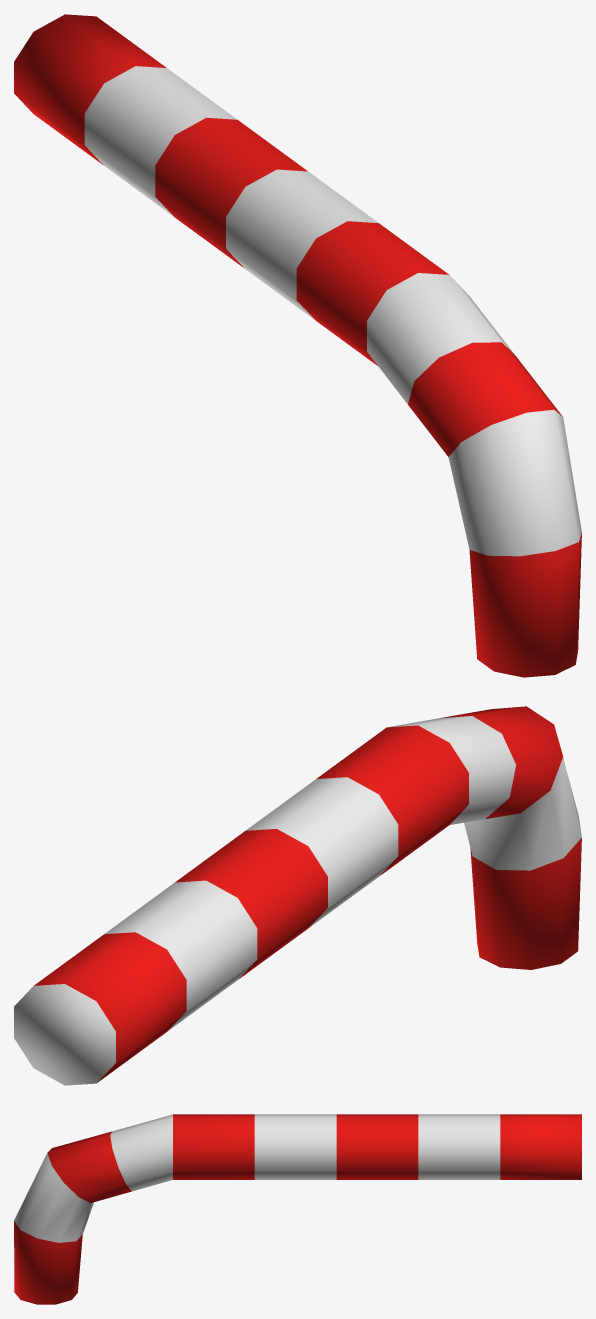
File: Polkastäng.fbx
The picture shows the model from 3 angles, top to bottom: view 1: azimuth 30°, elevation 25°; view 2: azimuth 150°, elevation 25°; view 3: azimuth 270°, elevation 25°; orthographic projection. The views are drawn at different scales.
Parts seen in each view (by area): view 1: Polkastäng; view 2: Polkastäng; view 3: Polkastäng.
Part boxes in pixels (bbox=[...]): Polkastäng: bbox=[14, 14, 581, 677]; Polkastäng: bbox=[14, 706, 581, 1085]; Polkastäng: bbox=[14, 1114, 581, 1304].
Size of the model in its own units: 0.012 by 0.034 by 0.1.
